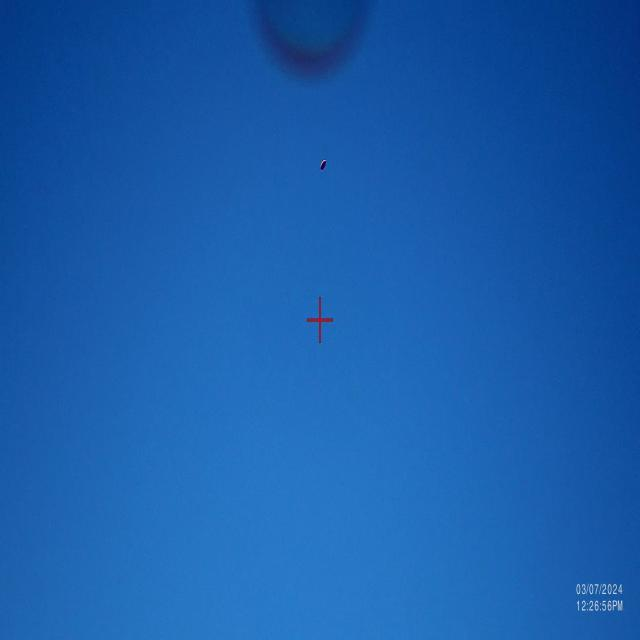entire: (315, 152, 330, 176)
